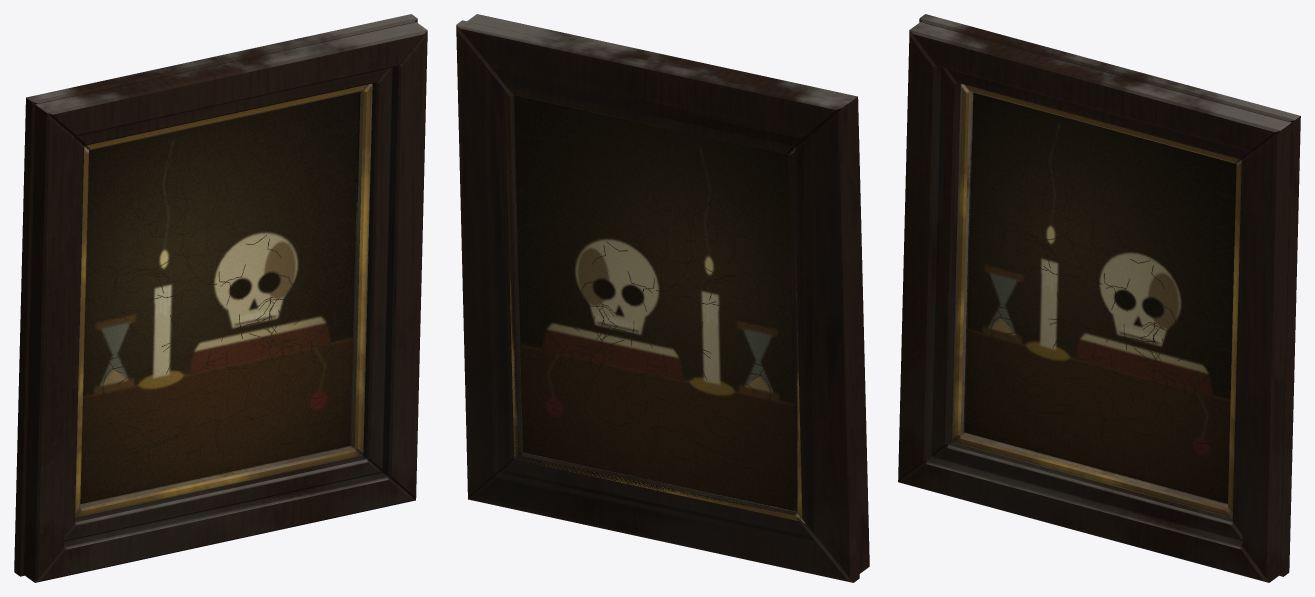
File: VanitasPainting.fbx
3 views of the same model, side by side, from view 1: azimuth 30°, elevation 25°; view 2: azimuth 150°, elevation 25°; view 3: azimuth 330°, elevation 25° (orthographic). The views are drawn at different scales.
Visible parts, largest first — view 1: Frame, Canvas; view 2: Frame, Canvas; view 3: Frame, Canvas.
Boxes of the visible parts, x1,y1,x2,y2 form: Frame: (14,14,427,582); Canvas: (80,92,359,503); Frame: (456,14,869,582); Canvas: (514,95,796,511); Frame: (898,14,1300,582); Canvas: (964,92,1236,503).
Bounding box in the file's own units: 1.82 × 2.12 × 0.165.
1 material, 1 textured.
